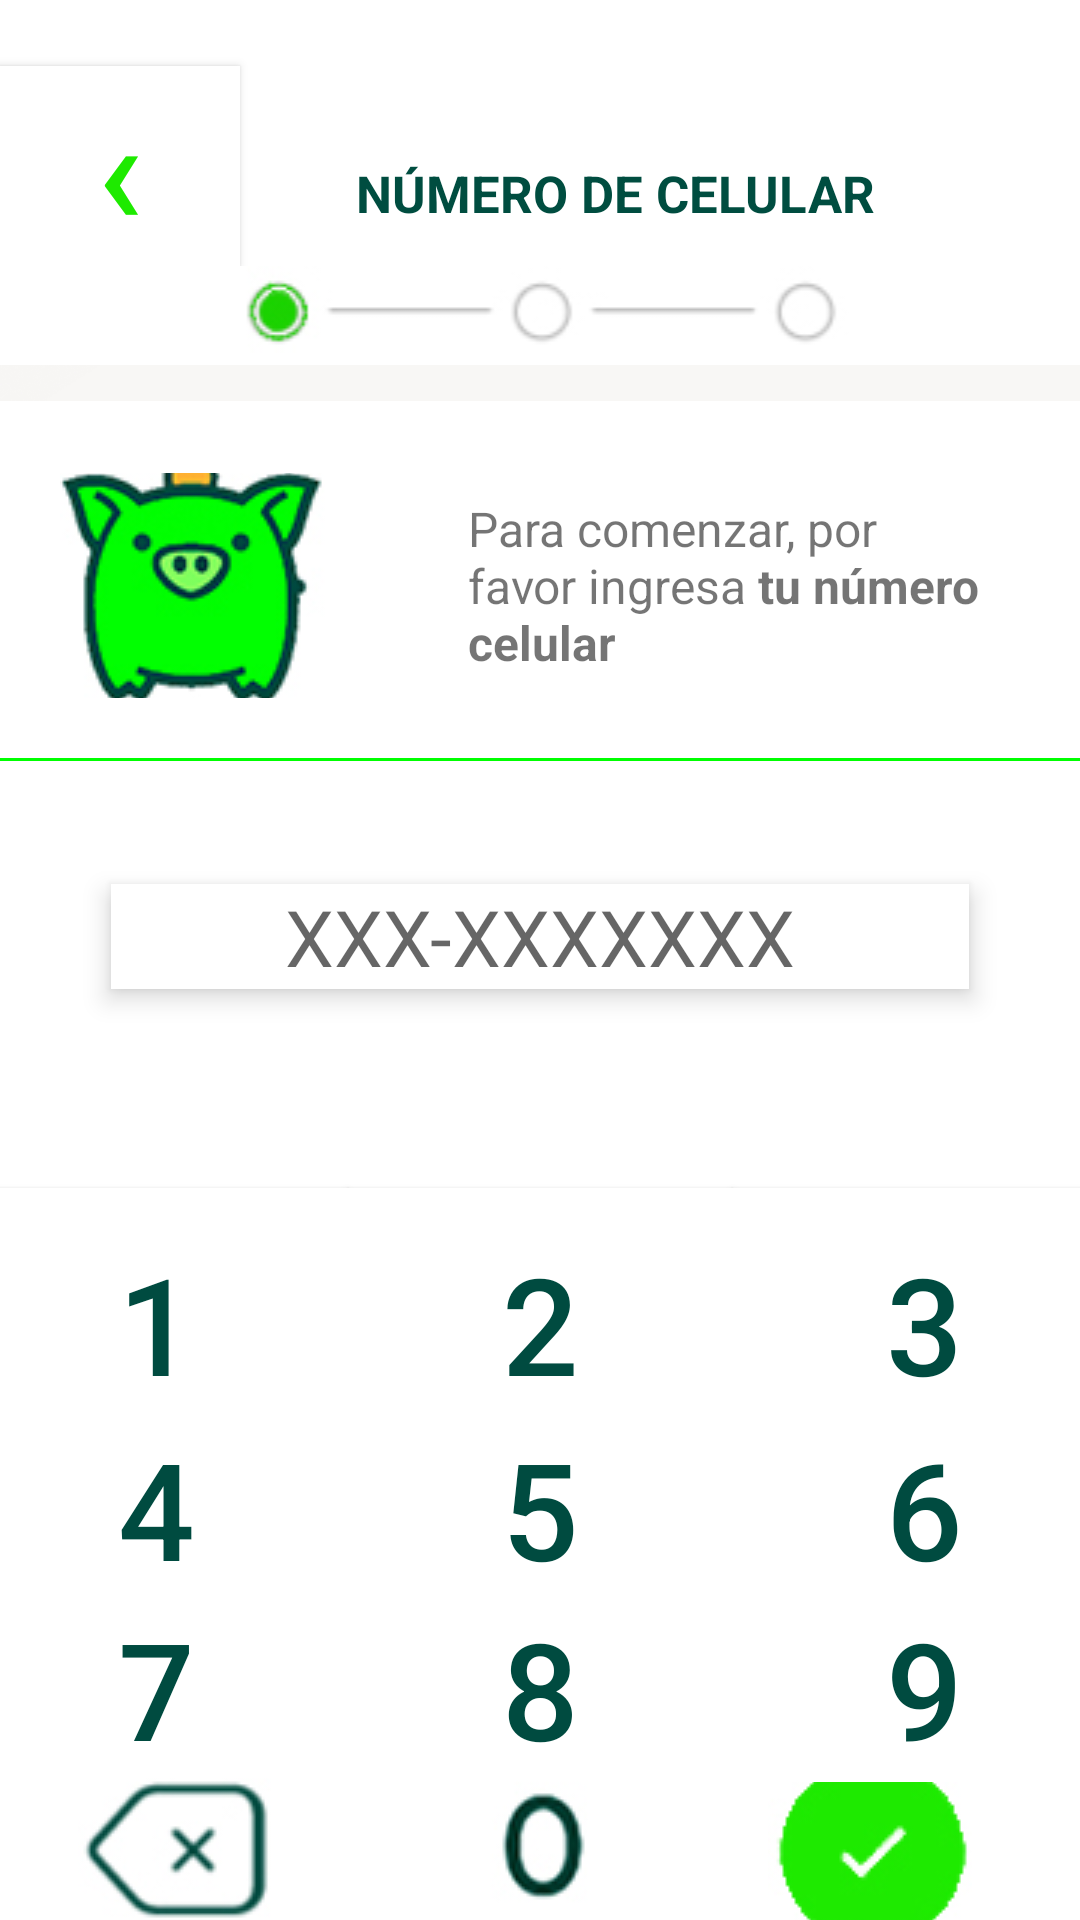

Named icons in this screenshot (1080×1920) and their bounding boxes, (x1, y1, x2, y2):
iconoborrado: (86, 1782, 268, 1917)
